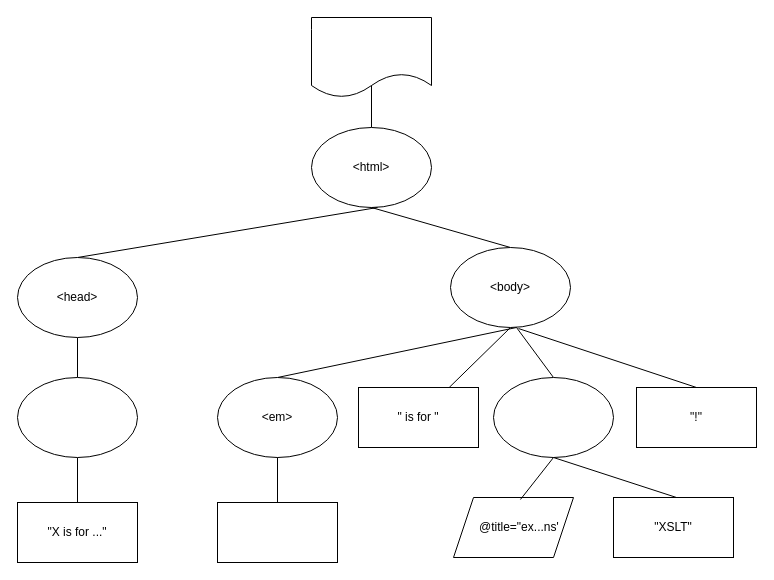
Some shapes in this 774 by 580 pixel diagram are drawn without their labels. Each missing label, with the centre of its shape:
"X": the point at 277,532
<abbr>: the point at 553,417
<title>: the point at 77,417
Document: the point at 371,57
